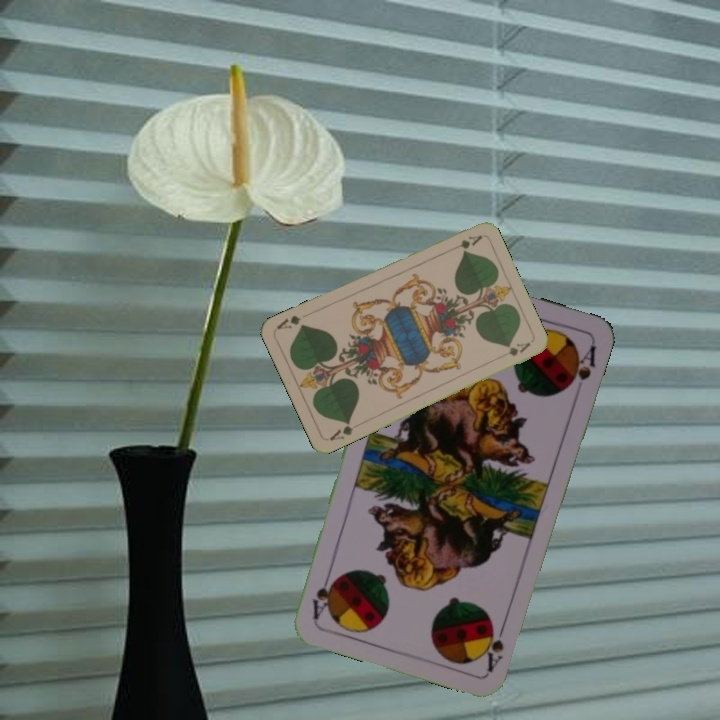GA: (445, 231, 484, 254), (326, 417, 355, 444)
SA: (479, 616, 509, 674)
